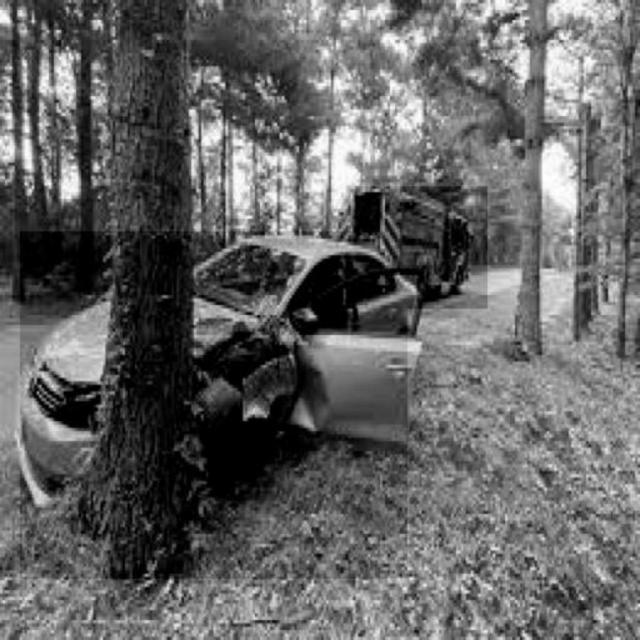accident: (21, 232, 408, 579)
vehicle: (355, 186, 487, 308)
